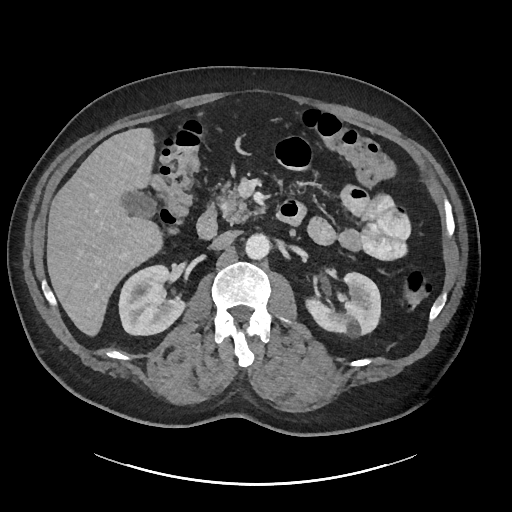Lesion: (345, 316, 363, 340)
